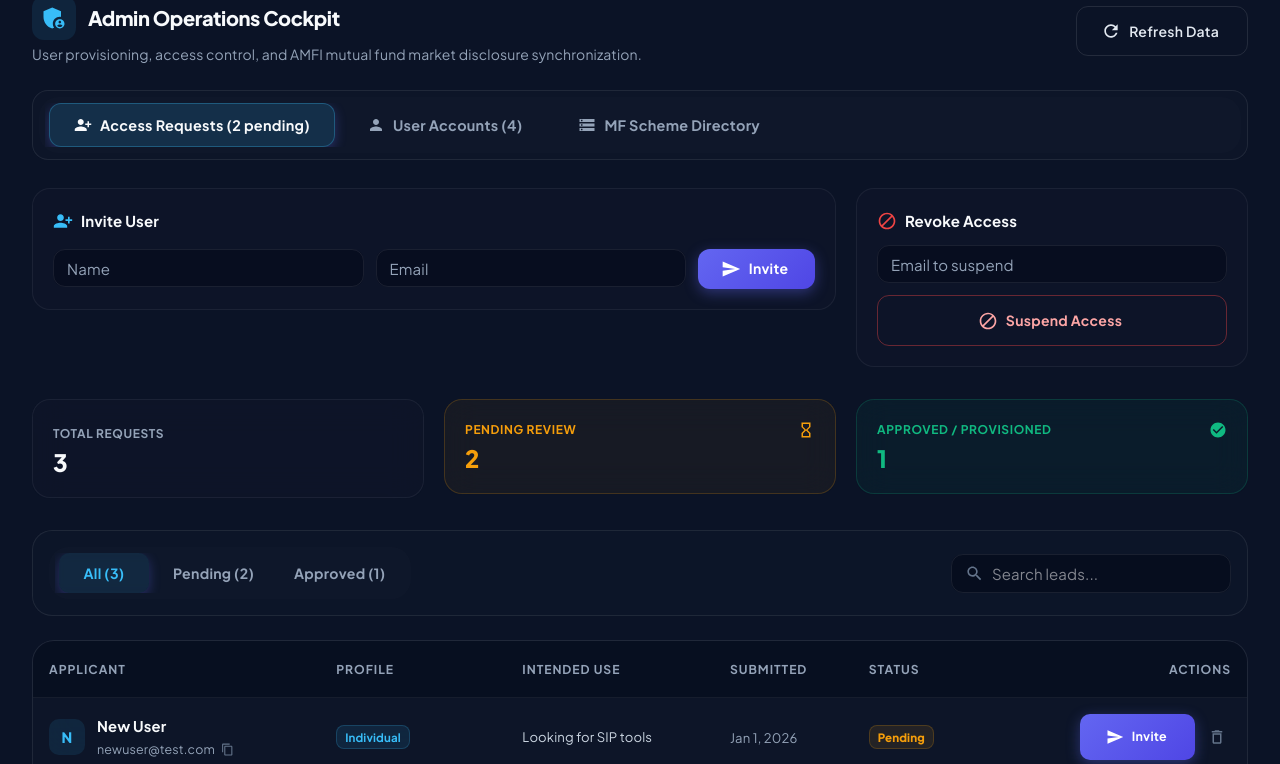
AdminConsole › searches access requests and shows empty state when no match
Expected: the text "newuser@test.com" is shown, [97,740,215,760]
Type "no-such-lead" into the field with placeholder "Search leads..." at (1112, 573), box [992,554,1231,593]
(page scrolled)
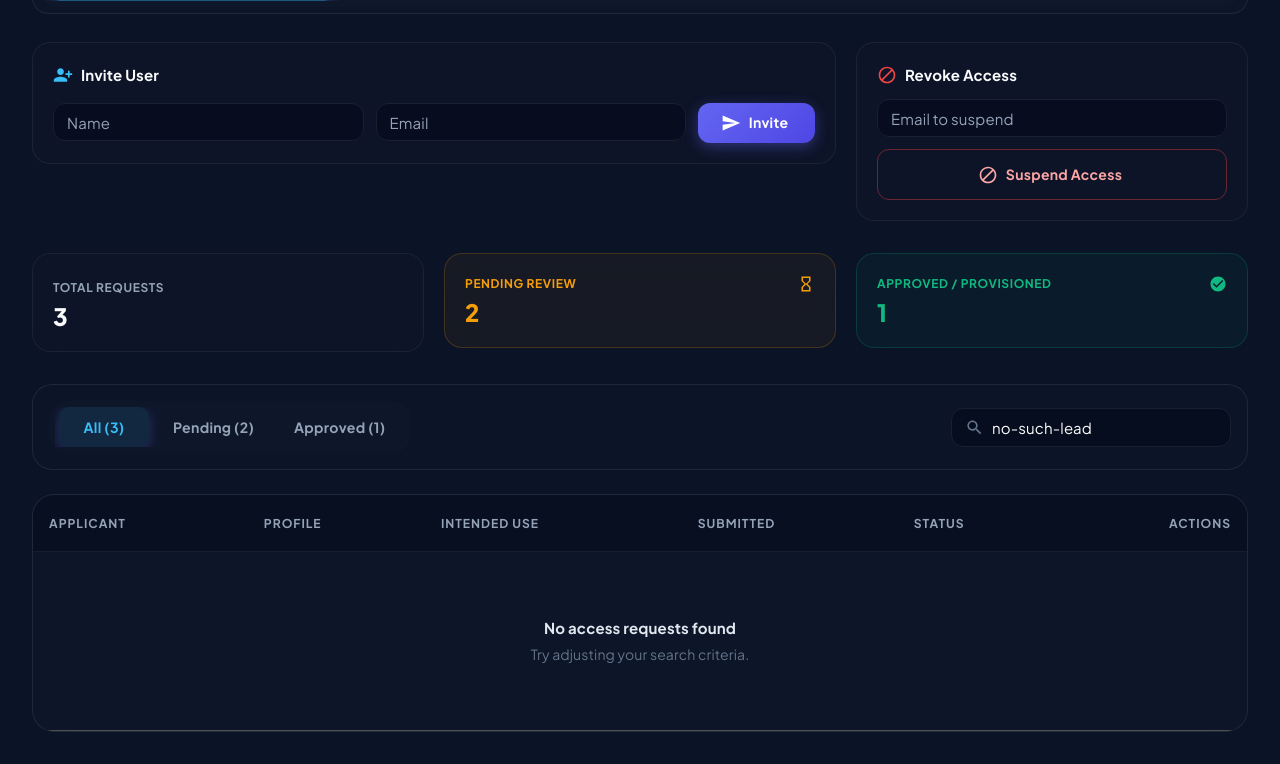
Result: the text "No access requests found" is shown at [544,618,736,637]
Result: the text "Try adjusting your search criteria." is shown at [531,645,749,663]
